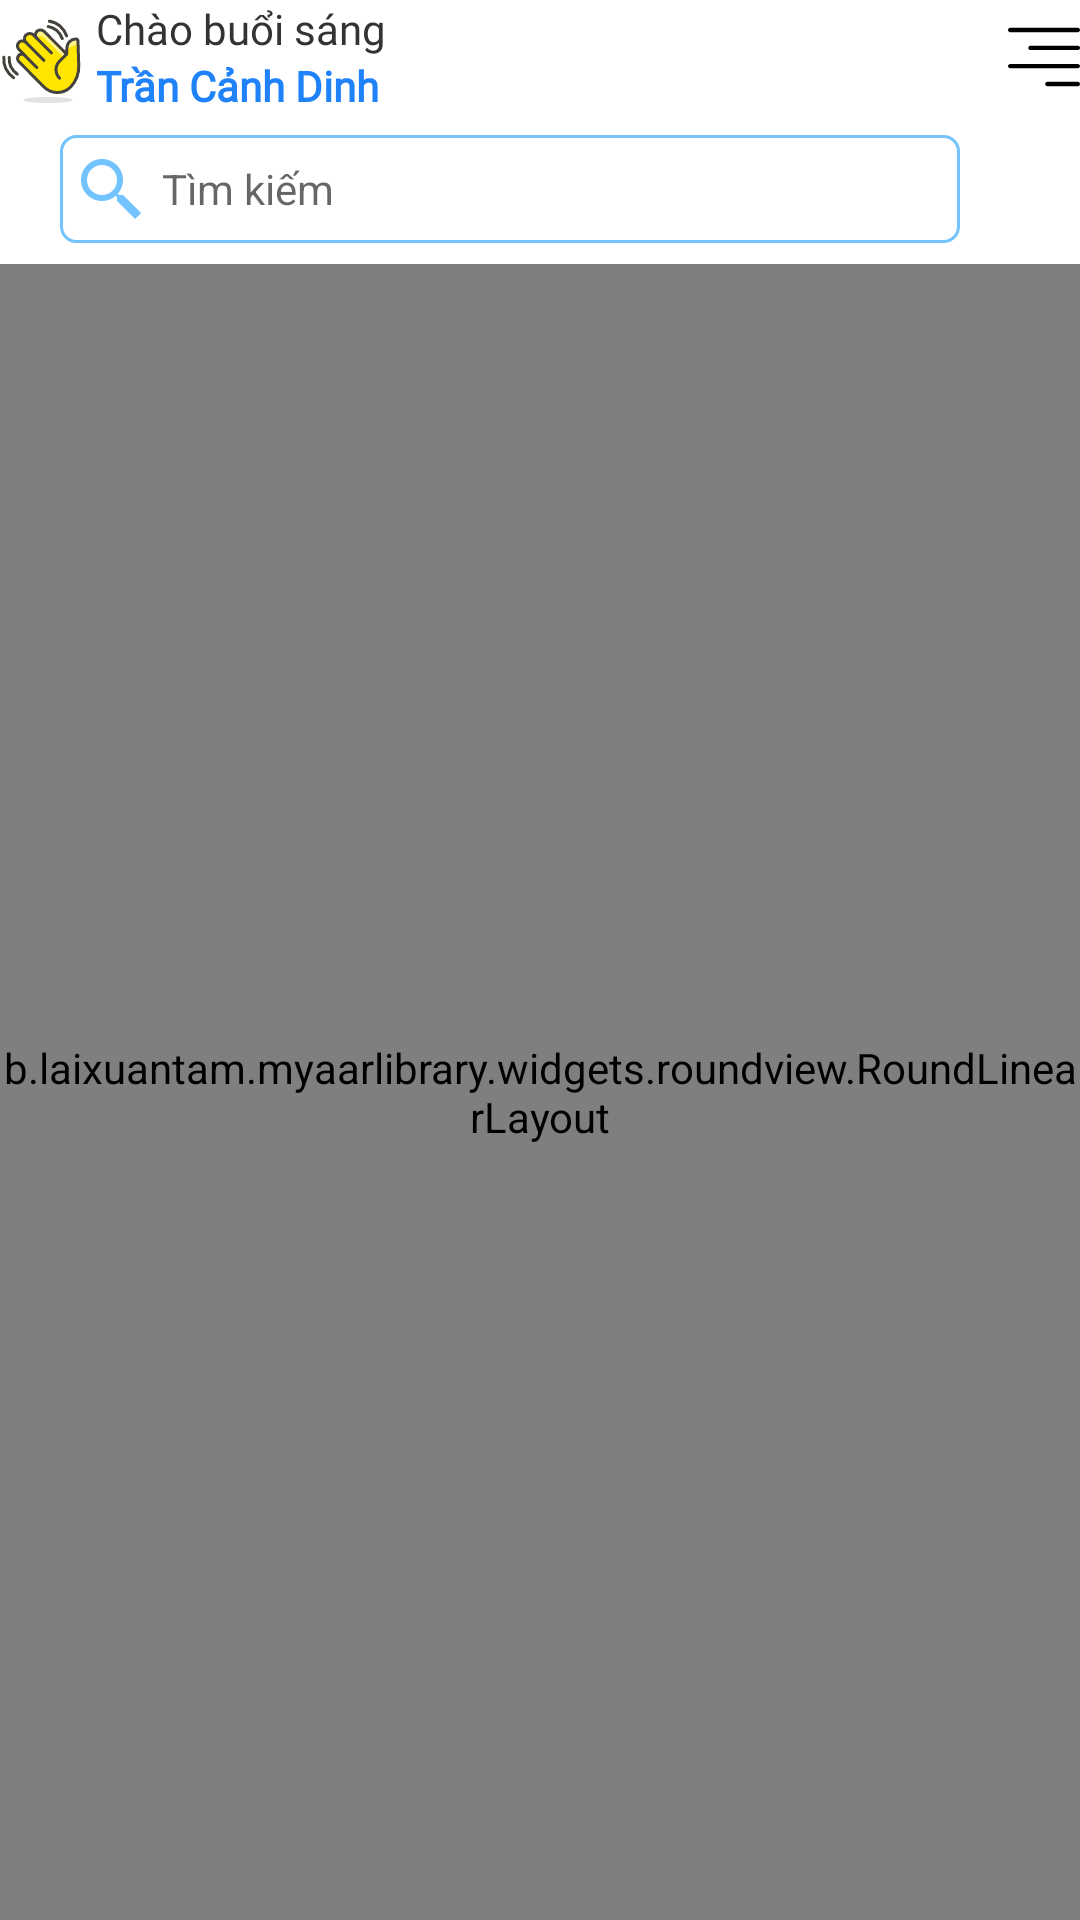

Point at icon controls on the screen. Image size 1080*1920, points as (x=x, y=y).
hello: (x=41, y=61)
more: (x=1044, y=57)
